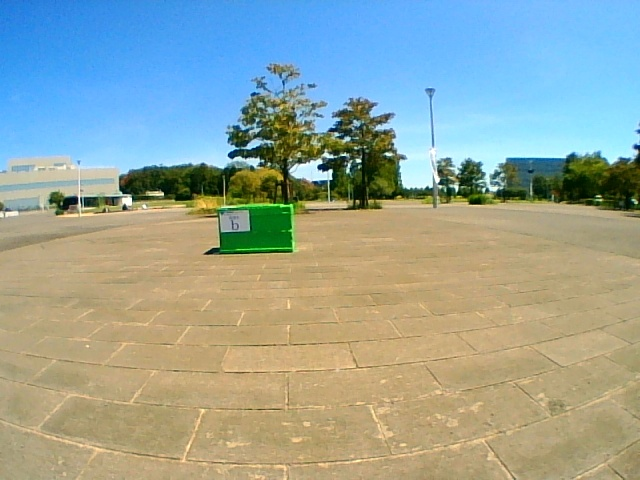green_box: (217, 205, 293, 253)
tag_b: (221, 212, 248, 231)
